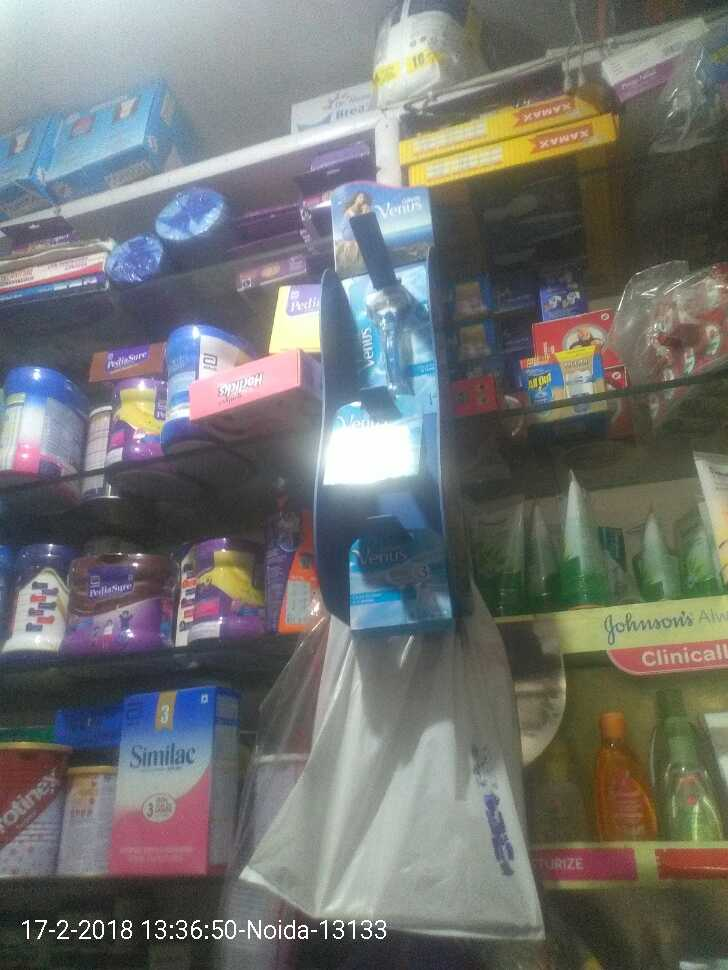venus: (342, 515, 452, 647), (319, 391, 429, 493)
